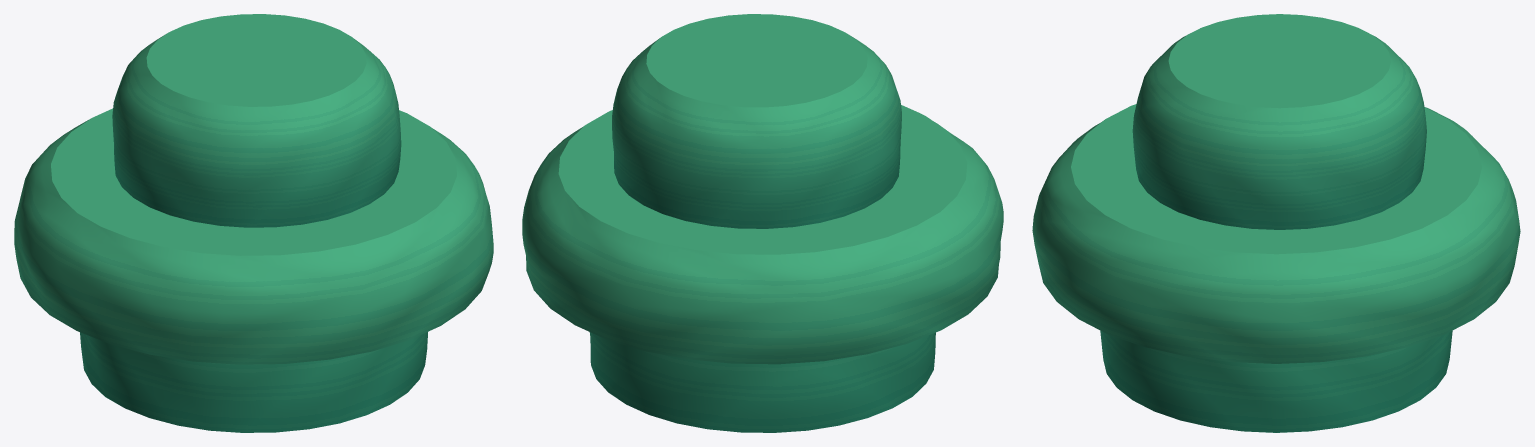
Rendered from duckweed_2.glb.
3 renders of one model, left to right at view 1: azimuth 30°, elevation 25°; view 2: azimuth 150°, elevation 25°; view 3: azimuth 270°, elevation 25°, orthographic.
Parts seen in each view (by area): view 1: duckweed_2; view 2: duckweed_2; view 3: duckweed_2.
Boxes of the visible parts, left/top/right/bottom form: duckweed_2: left=14, top=14, right=493, bottom=432; duckweed_2: left=522, top=14, right=1003, bottom=432; duckweed_2: left=1032, top=14, right=1520, bottom=432.
Size of the model in its own units: 0.141 by 0.0959 by 0.1411.
1 material, 1 textured.
